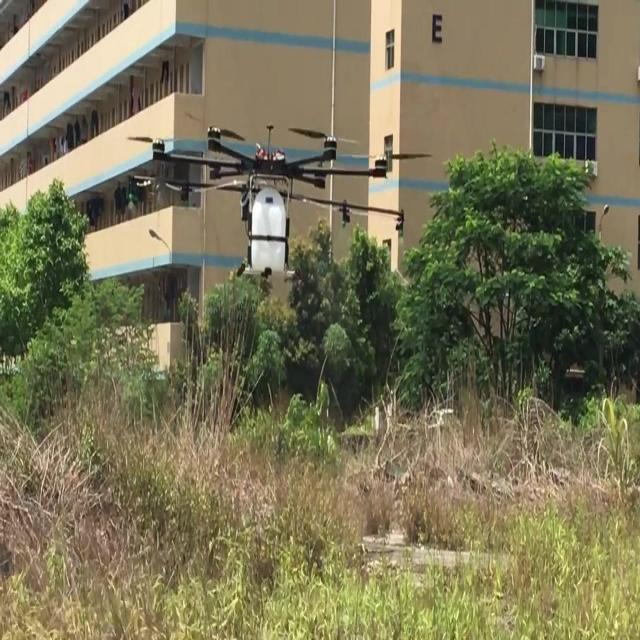UAV: (126, 123, 432, 278)
